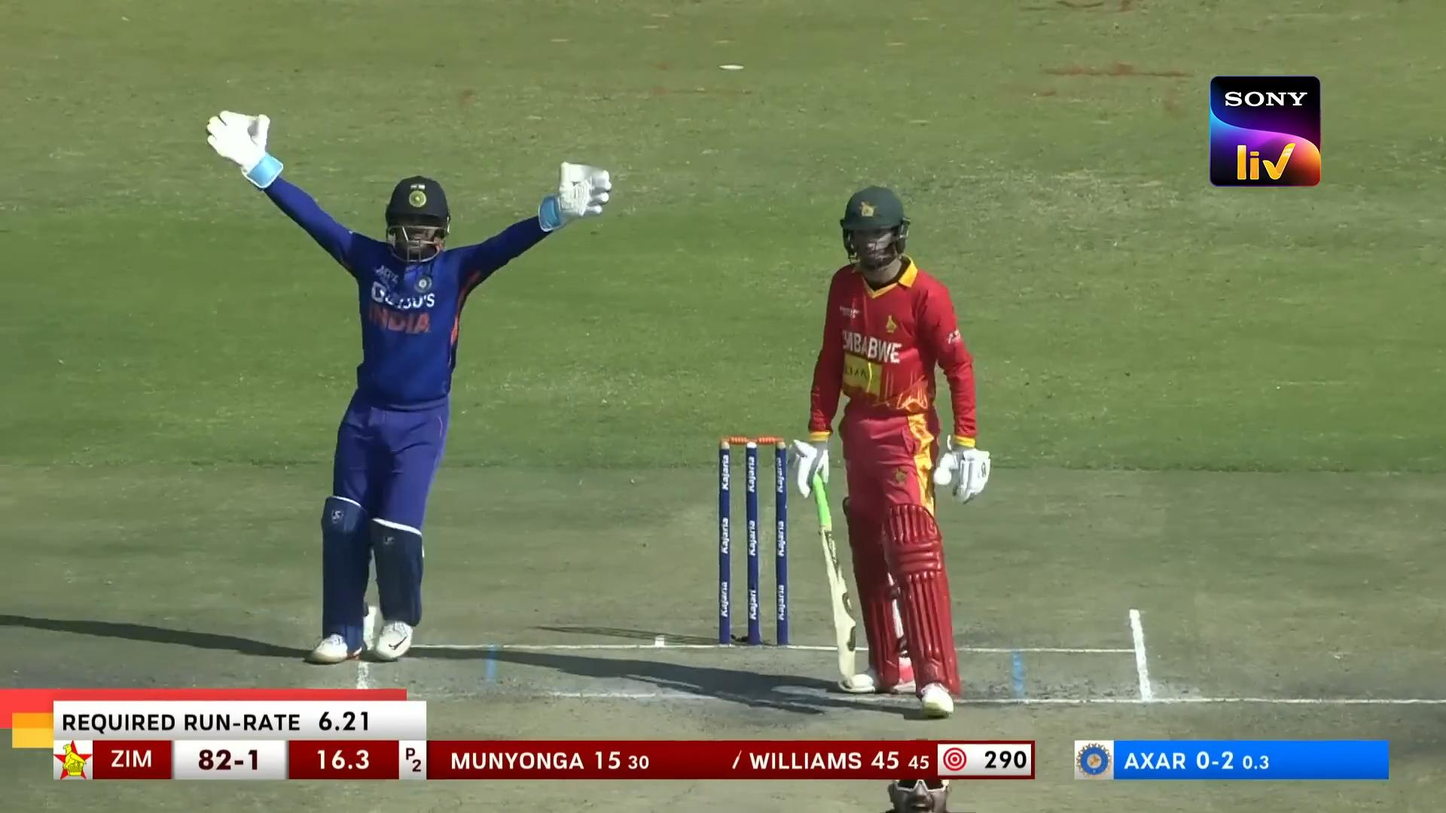batsman: (794, 184, 992, 714)
